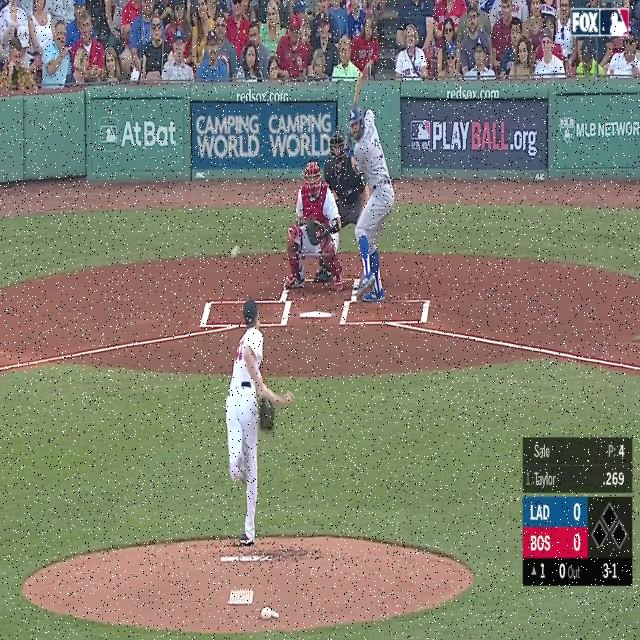baseball: (229, 243, 240, 260)
